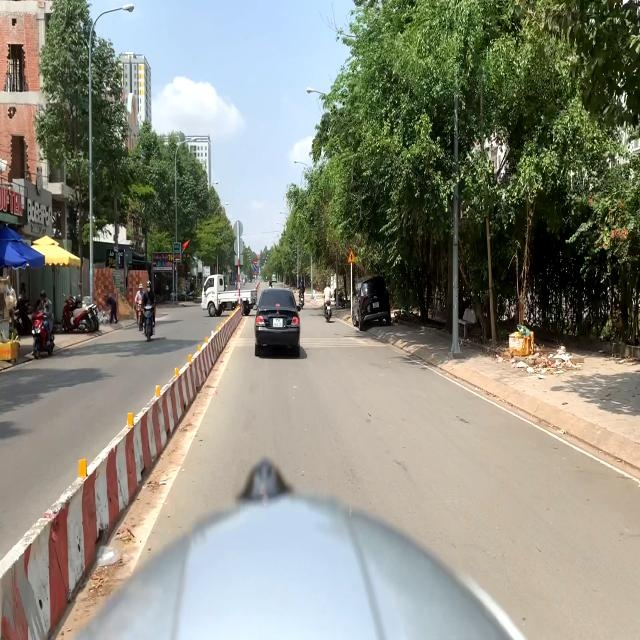bien_cam: (346, 249, 356, 264), (254, 259, 257, 265), (254, 266, 257, 270)
